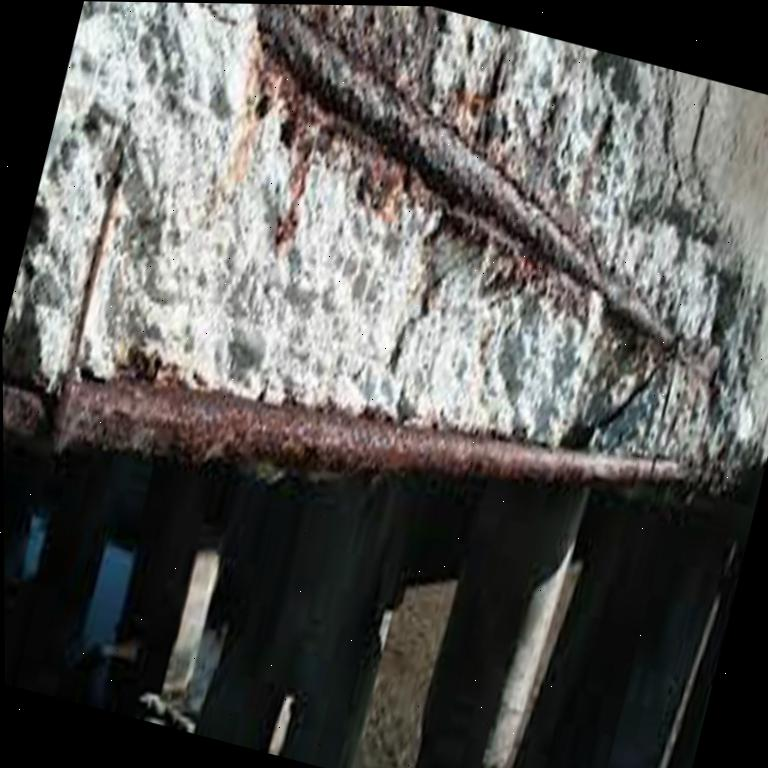exposed_rebar: (258, 4, 674, 351), (54, 379, 690, 486), (3, 380, 43, 436)
spalling: (3, 1, 768, 483)
